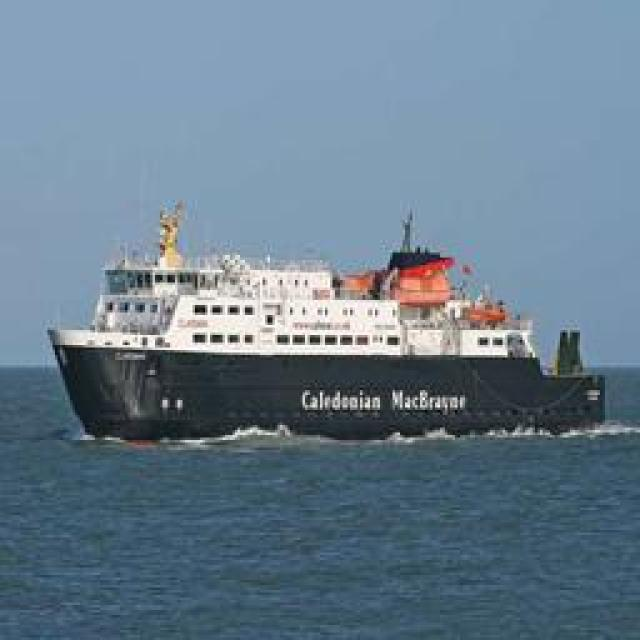CIV_Ship: (40, 195, 588, 440)
